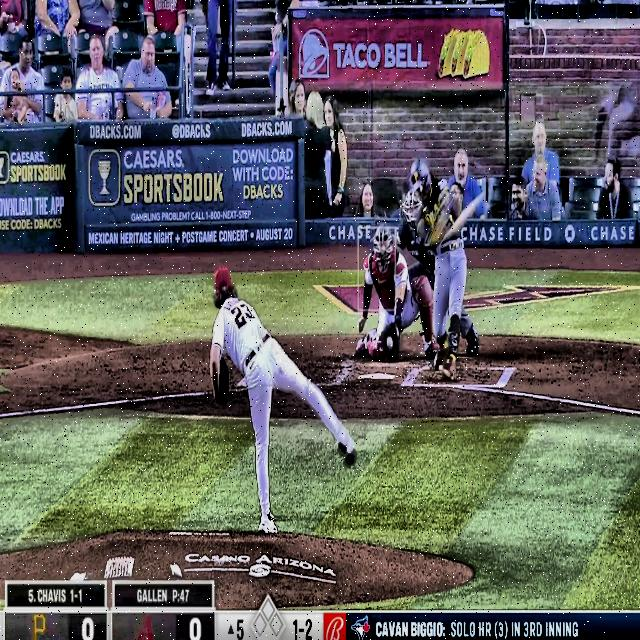baseball: (386, 336, 393, 350)
